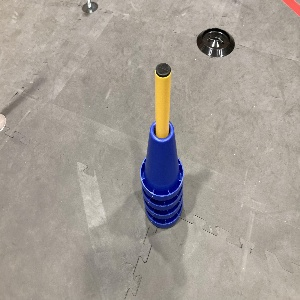Blue_4: (139, 119, 183, 228)
